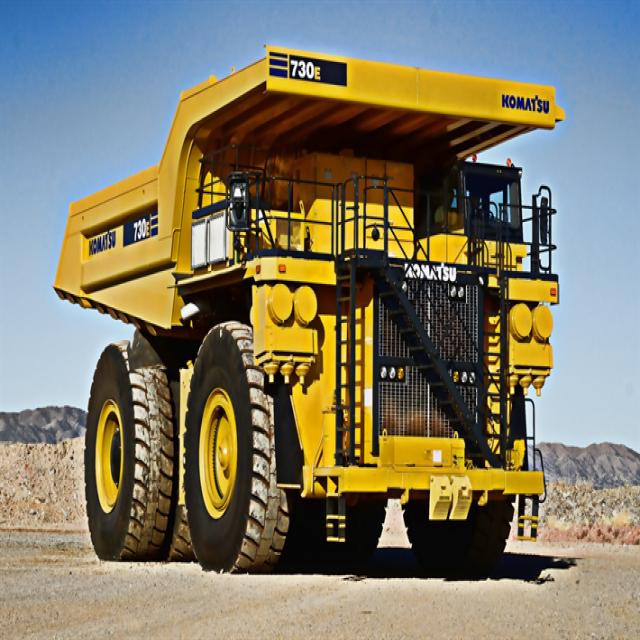dump_truck: (39, 32, 555, 560)
